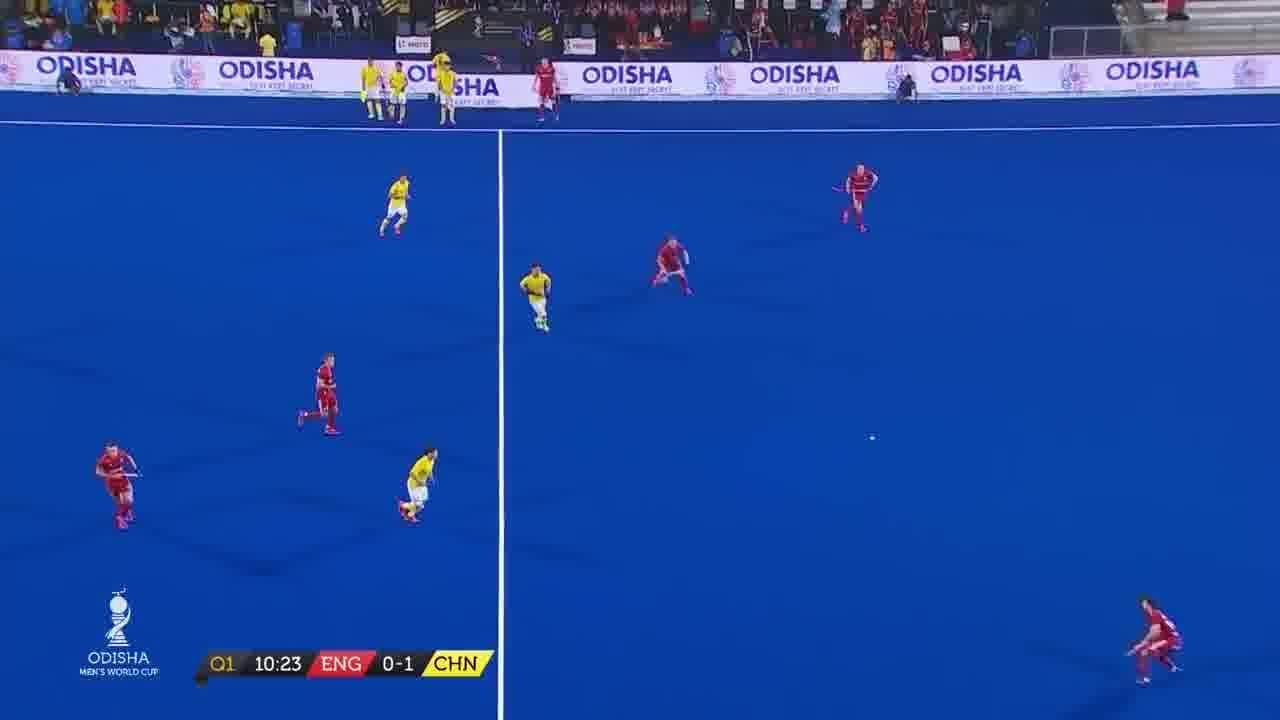ball: (868, 428, 885, 443)
